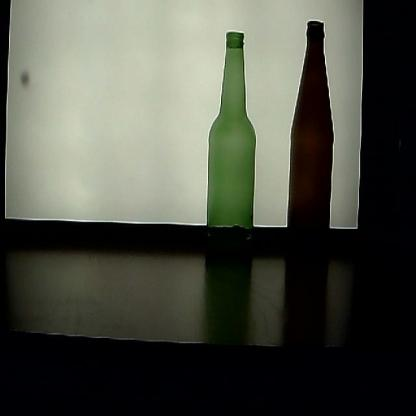Can: (285, 19, 335, 261), (206, 30, 256, 264)
